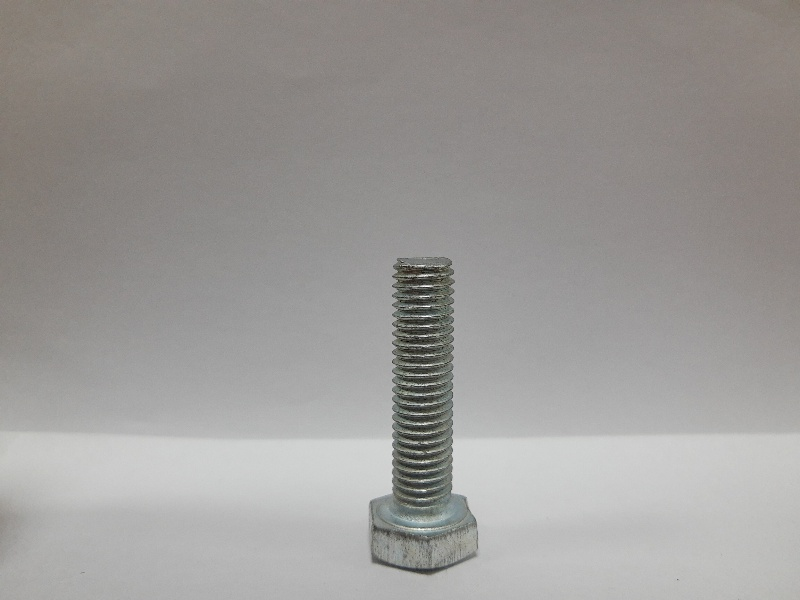pf: (367, 252, 487, 579)
